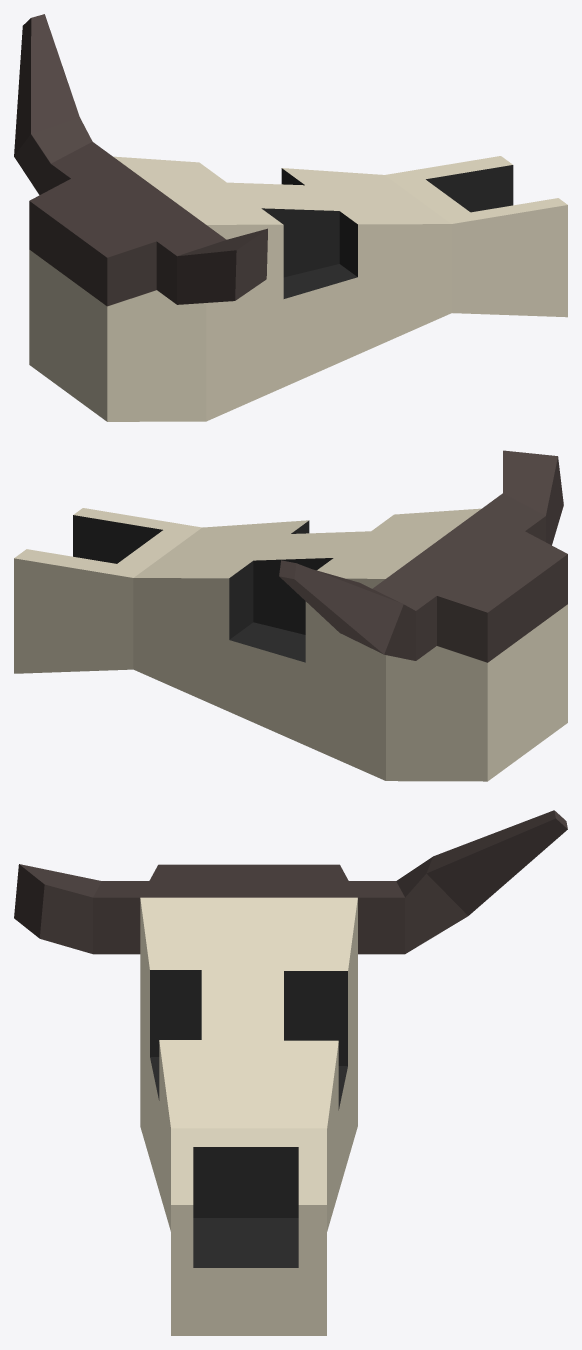
File: desert_skull.fbx
The picture shows the model from 3 angles, top to bottom: view 1: azimuth 30°, elevation 25°; view 2: azimuth 150°, elevation 25°; view 3: azimuth 270°, elevation 25°; orthographic projection. The views are drawn at different scales.
Parts seen in each view (by area): view 1: desert_skull; view 2: desert_skull; view 3: desert_skull.
Boxes of the visible parts, x1,y1,x2,y2 form: desert_skull: (14,14,567,421); desert_skull: (14,450,567,781); desert_skull: (14,810,567,1335).
Size of the model in its own units: 329 by 184 by 291.
